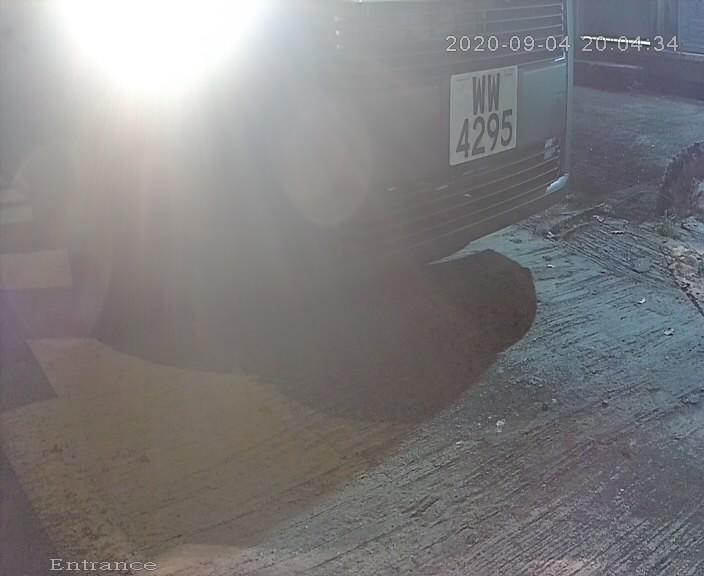License Plate: (437, 52, 532, 181)
